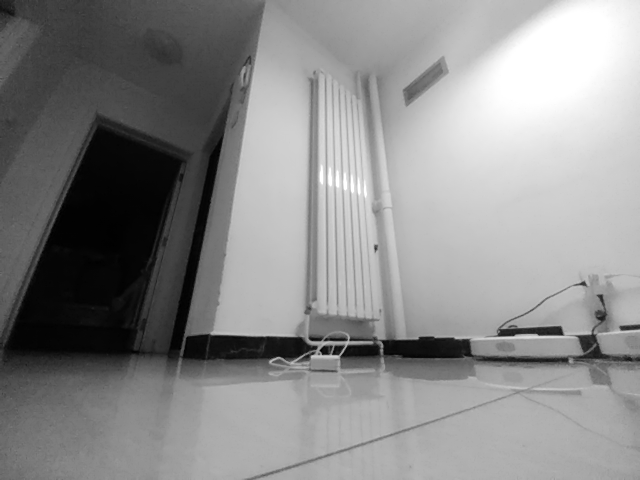wire: (268, 331, 350, 372)
